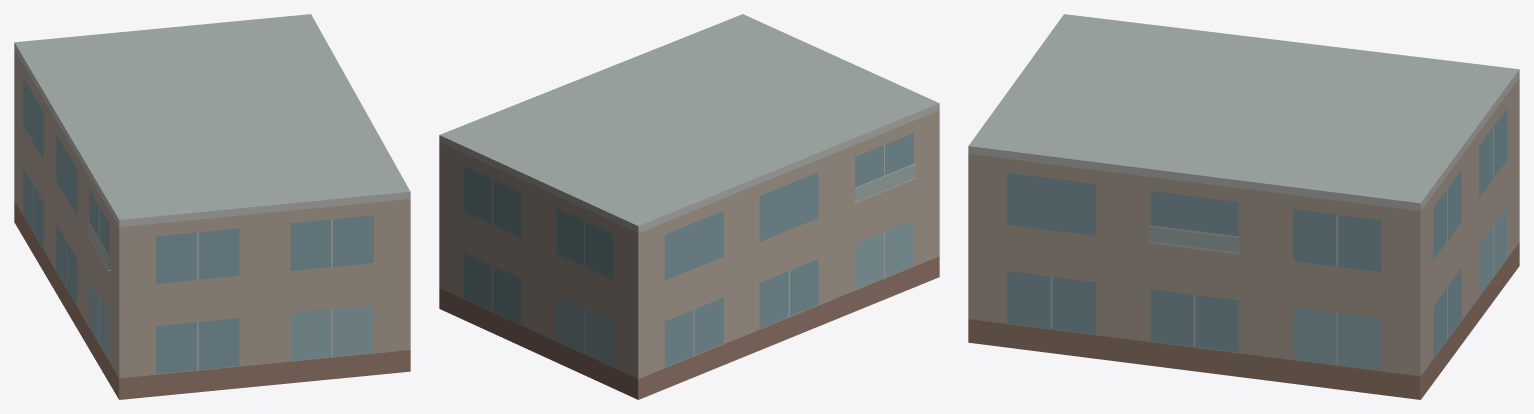
File: survey-upis-32868538.glb
3 views of the same model, side by side, from view 1: azimuth 30°, elevation 25°; view 2: azimuth 150°, elevation 25°; view 3: azimuth 270°, elevation 25° (orthographic). The views are drawn at different scales.
Visible parts, largest first — view 1: survey-upis-32868538.tmp; view 2: survey-upis-32868538.tmp; view 3: survey-upis-32868538.tmp.
Part boxes in pixels (x1=…): survey-upis-32868538.tmp: x1=14, y1=14, x2=410, y2=399; survey-upis-32868538.tmp: x1=439, y1=14, x2=939, y2=399; survey-upis-32868538.tmp: x1=968, y1=14, x2=1519, y2=399.
Bounding box in the file's own units: 12.61 × 6.1 × 15.52.
